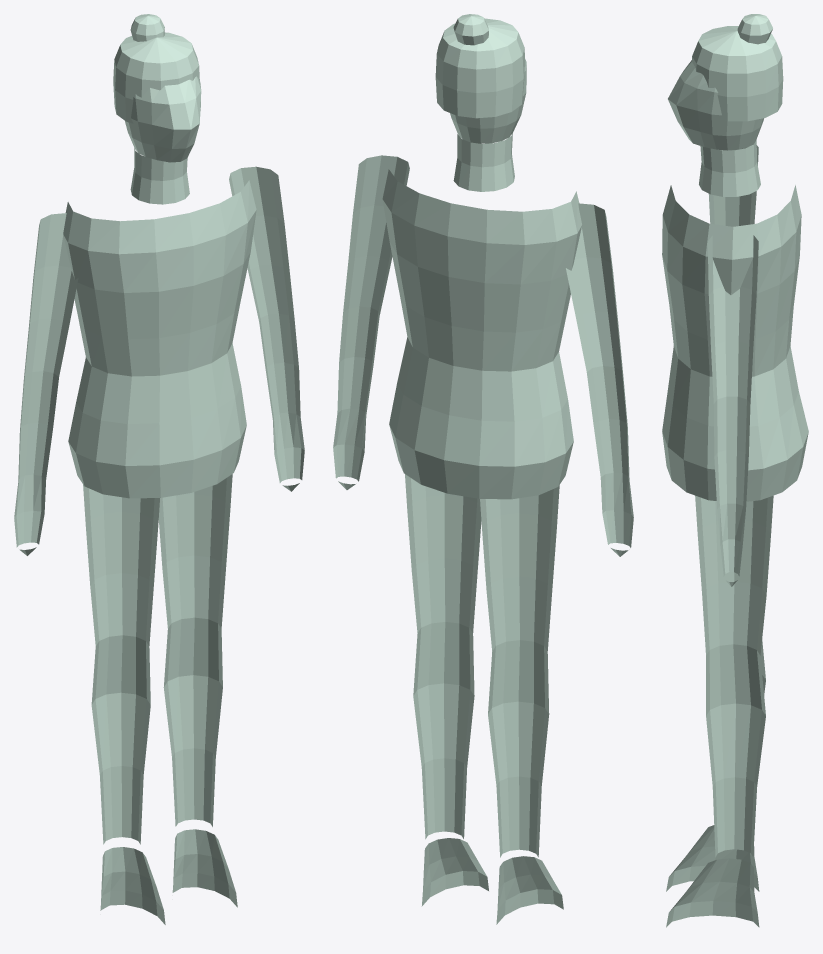
File: human_body.glb
The picture shows the model from 3 angles, left to right: view 1: azimuth 30°, elevation 25°; view 2: azimuth 150°, elevation 25°; view 3: azimuth 270°, elevation 25°; orthographic projection. The views are drawn at different scales.
Visible parts, largest first — view 1: HumanBody; view 2: HumanBody; view 3: HumanBody.
Boxes of the visible parts, bbox=[...] form: HumanBody: bbox=[14, 14, 304, 924]; HumanBody: bbox=[333, 14, 633, 924]; HumanBody: bbox=[662, 14, 808, 927].
Size of the model in its own units: 0.6051 by 1.77 by 0.264.
